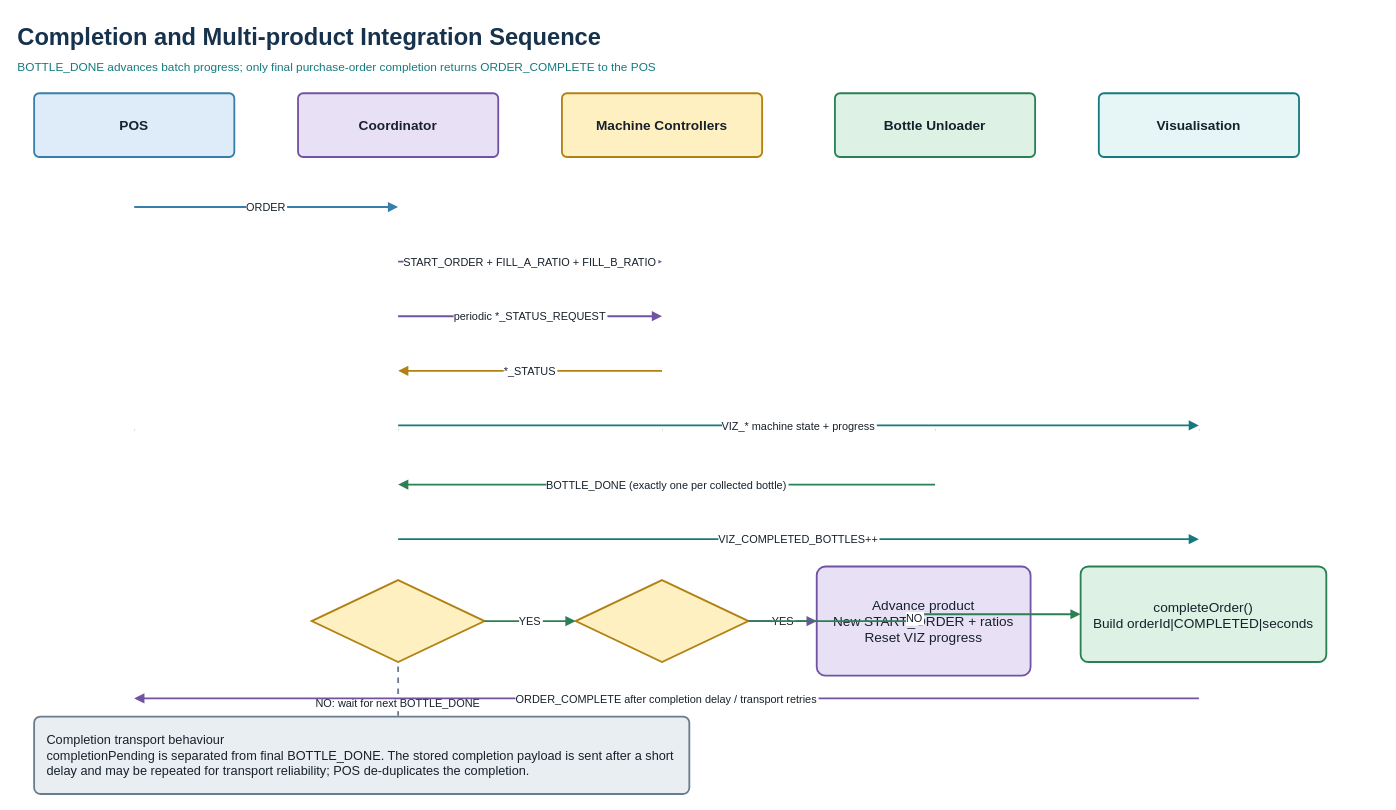
This 1396x810 diagram has some shape labels left out. The centre of each missing label's shape, as x and y in pixels:
"Current product batch complete?" belongs at (397,620).
"Has next product?" belongs at (661,620).
